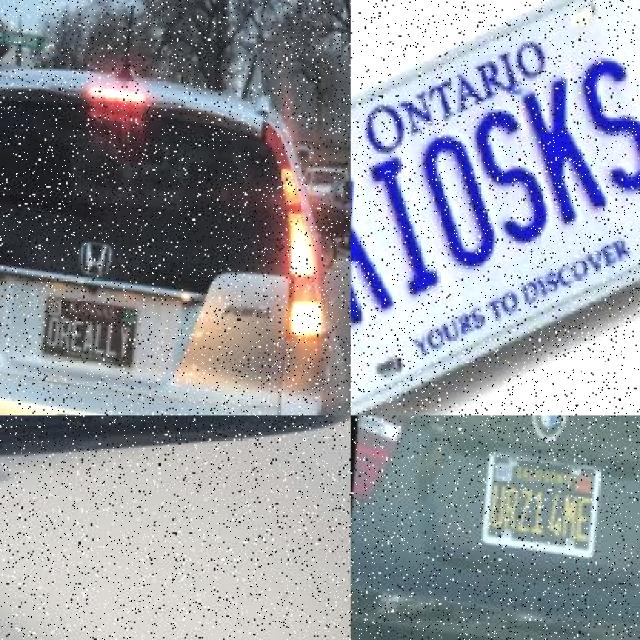licenseplate: (351, 12, 640, 363), (478, 448, 600, 560), (38, 292, 139, 369)
